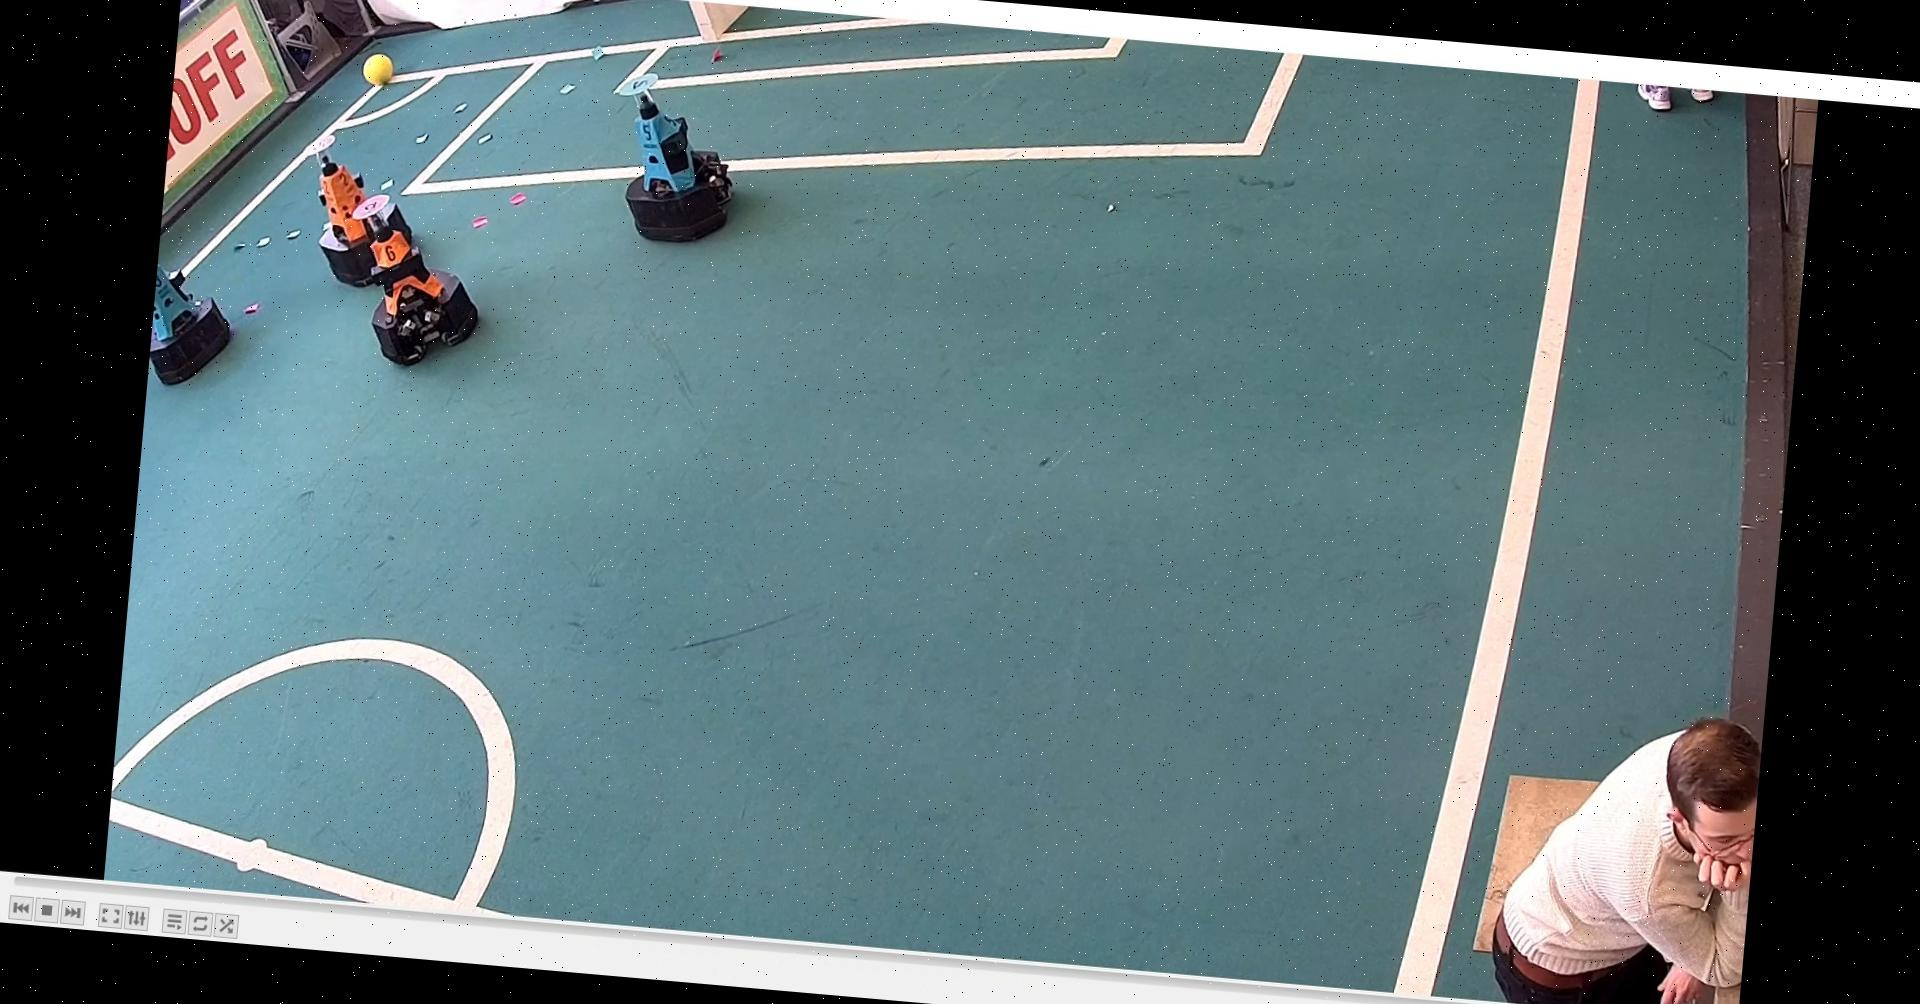Ball: (368, 51, 406, 85)
Team_Blue: (602, 60, 757, 251), (149, 244, 254, 387)
Team_Red: (317, 155, 489, 366), (290, 129, 439, 302)
